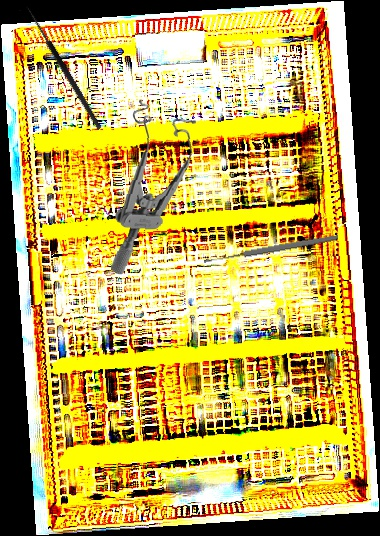Hook Surgical: (17, 4, 104, 134)
Speculum: (110, 95, 198, 281)
Surgical Spoon: (203, 233, 339, 265)
